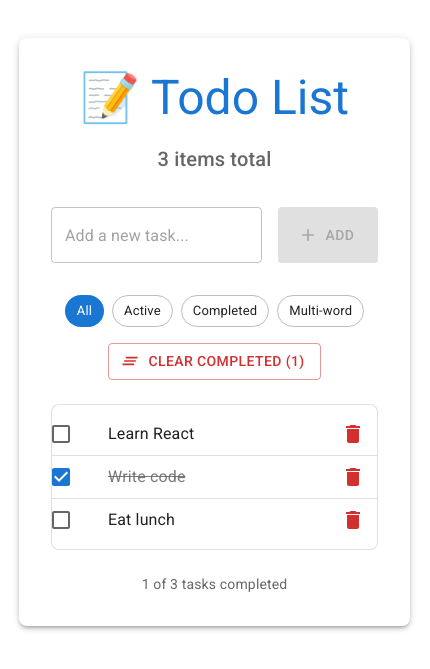
Test case: ClunkyTodoList Component › Edge Cases and Error Handling › updates counts correctly after all operations
The width and height of the screenshot is (430, 669).
Type "New task" into the field with placeholder "Add a new task..." at (156, 235), box [51,207,262,263]
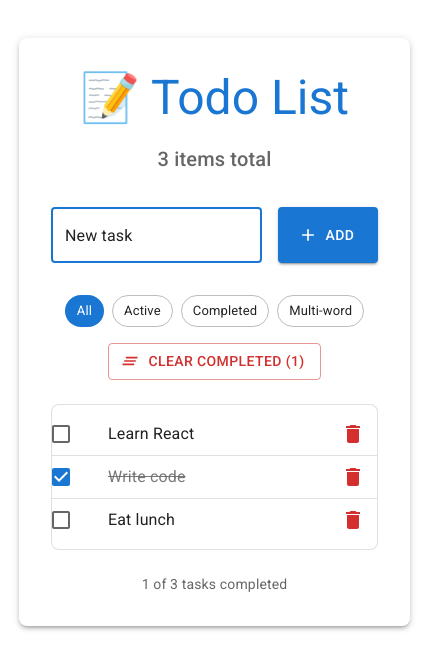
Click the button "Add" at (328, 235), box [278,207,378,263]
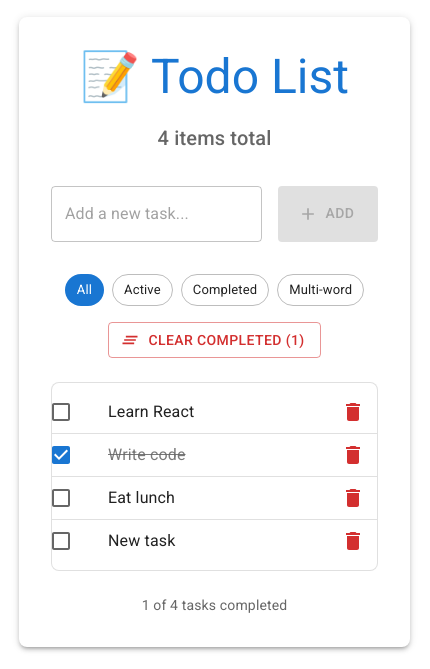
Now the heading "4 items total" is shown, box [158,126,271,150]
Toggle a task
Click the checkbox next to "Learn React" at (61, 412), box [49,400,73,424]
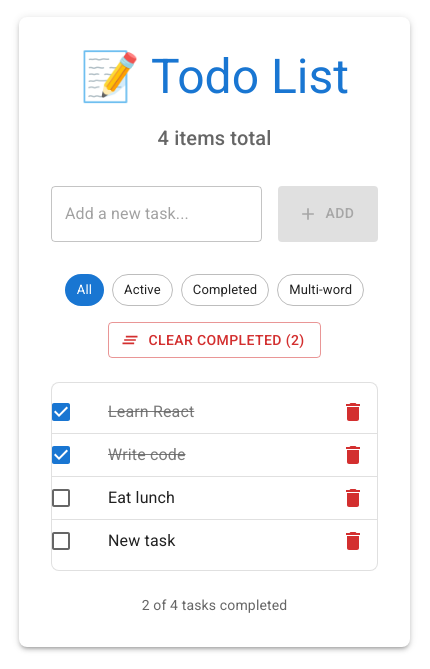
Now the text "2 of 4 tasks completed" is shown, box [142,597,287,613]
Clear completed
Click the button "Clear Completed (2)" at (214, 340), box [108,322,320,358]
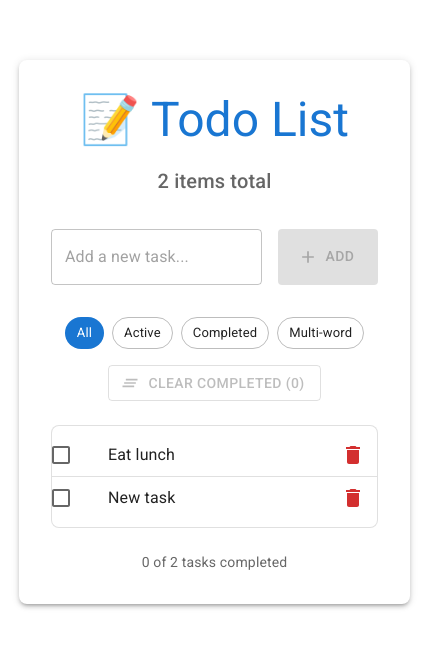
Now the heading "2 items total" is shown, box [158,169,271,193]
Now the text "0 of 2 tasks completed" is shown, box [142,554,287,570]
